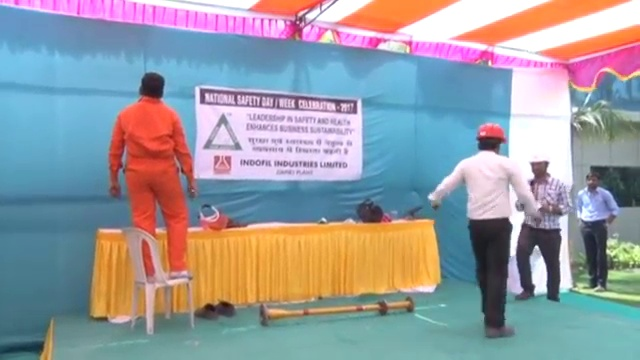helmet: (475, 119, 508, 143), (528, 152, 551, 166)
helmet_off: (139, 71, 166, 98), (584, 171, 599, 190)
helmet_on: (473, 119, 509, 157), (527, 152, 551, 183)
person: (428, 119, 540, 337), (105, 70, 198, 281), (517, 149, 572, 301), (576, 169, 619, 291)
